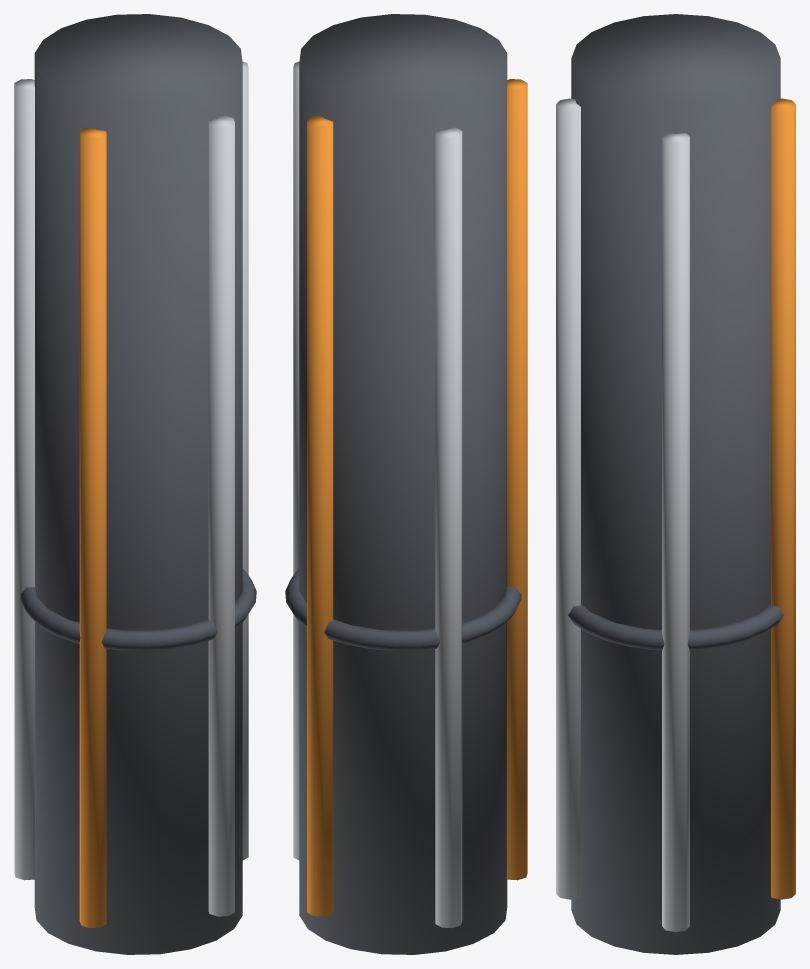
File: pillar_conduit_pillar.glb
3 renders of one model, left to right at view 1: azimuth 30°, elevation 25°; view 2: azimuth 150°, elevation 25°; view 3: azimuth 270°, elevation 25°, orthographic.
Parts seen in each view (by area): view 1: GD_pillar_conduit_pillar__m0, GD_pillar_conduit_pillar__m1, GD_pillar_conduit_pillar__m2, GD_pillar_conduit_pillar__m3; view 2: GD_pillar_conduit_pillar__m0, GD_pillar_conduit_pillar__m2, GD_pillar_conduit_pillar__m1, GD_pillar_conduit_pillar__m3; view 3: GD_pillar_conduit_pillar__m0, GD_pillar_conduit_pillar__m1, GD_pillar_conduit_pillar__m2, GD_pillar_conduit_pillar__m3.
Part boxes in pixels (x1,y1,x2,y2): GD_pillar_conduit_pillar__m0: [34, 14, 242, 954]; GD_pillar_conduit_pillar__m1: [14, 61, 248, 916]; GD_pillar_conduit_pillar__m2: [79, 127, 106, 928]; GD_pillar_conduit_pillar__m3: [20, 569, 256, 650]; GD_pillar_conduit_pillar__m0: [299, 14, 507, 954]; GD_pillar_conduit_pillar__m2: [307, 79, 527, 916]; GD_pillar_conduit_pillar__m1: [293, 61, 462, 928]; GD_pillar_conduit_pillar__m3: [285, 569, 521, 650]; GD_pillar_conduit_pillar__m0: [571, 14, 780, 954]; GD_pillar_conduit_pillar__m1: [556, 98, 689, 932]; GD_pillar_conduit_pillar__m2: [771, 98, 795, 899]; GD_pillar_conduit_pillar__m3: [568, 604, 783, 650].
Bounding box in the file's own units: 0.7 × 2.7 × 0.6887.
